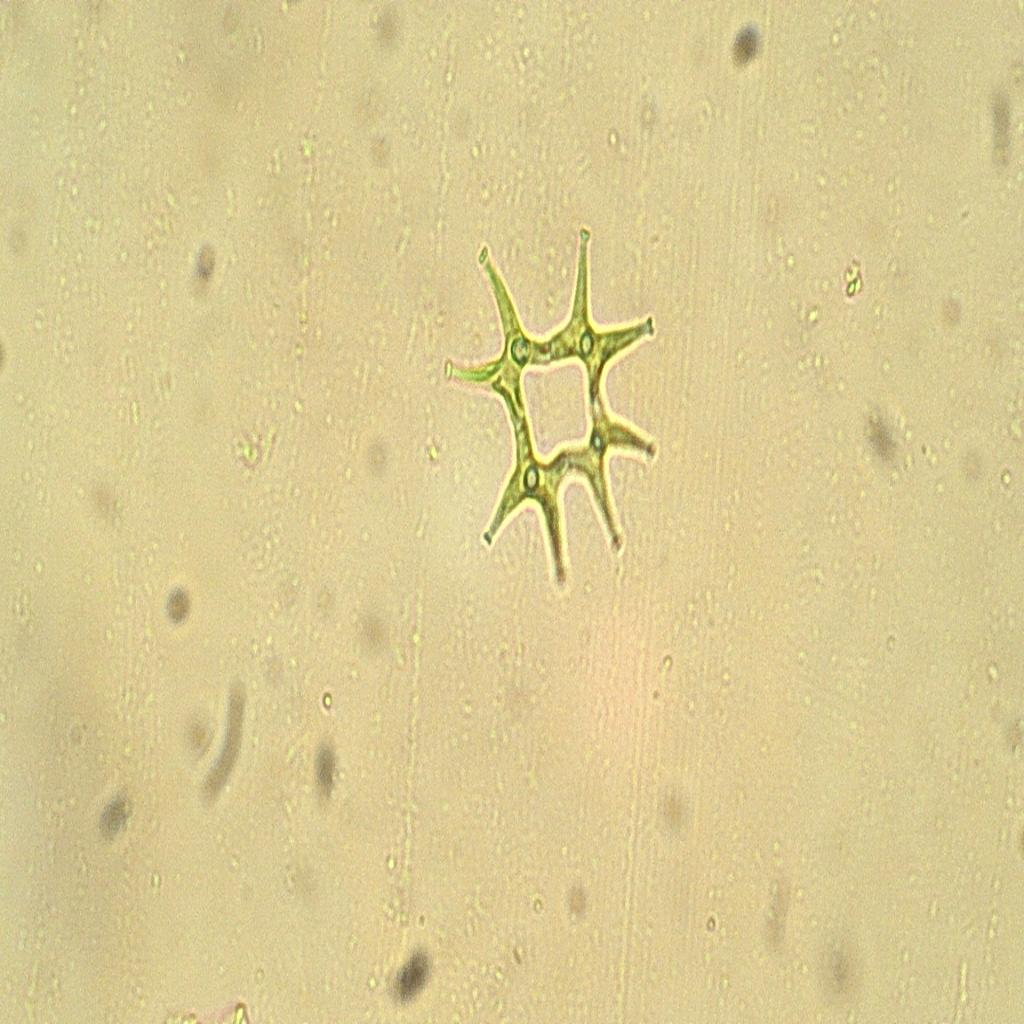Pediastrum_75O: (436, 212, 664, 612)
